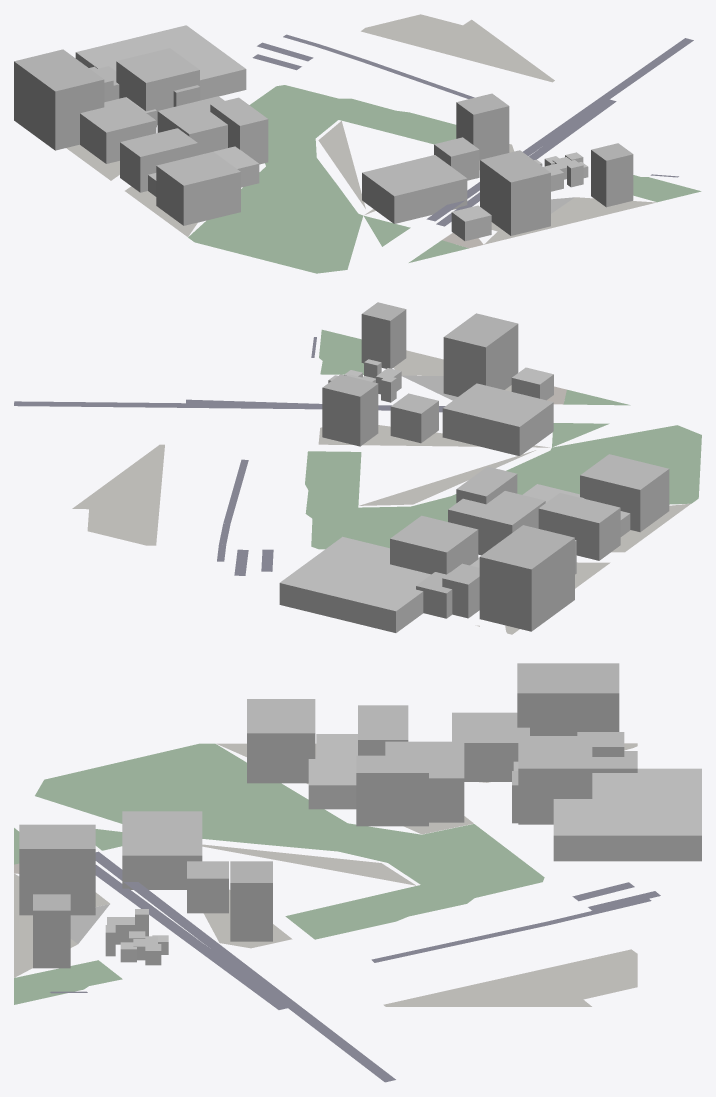
Rendered from 105_105_mid.glb.
3 renders of one model, top to bottom at view 1: azimuth 30°, elevation 25°; view 2: azimuth 150°, elevation 25°; view 3: azimuth 270°, elevation 25°, orthographic. The views are drawn at different scales.
Bounding box in the file's own units: 672 × 65.4 × 552.
